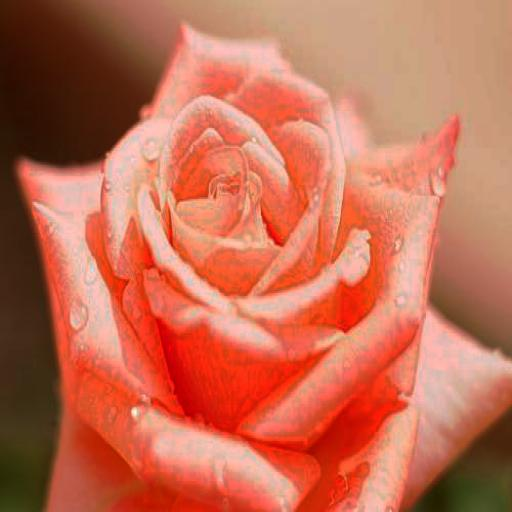rose: (16, 24, 511, 512)
